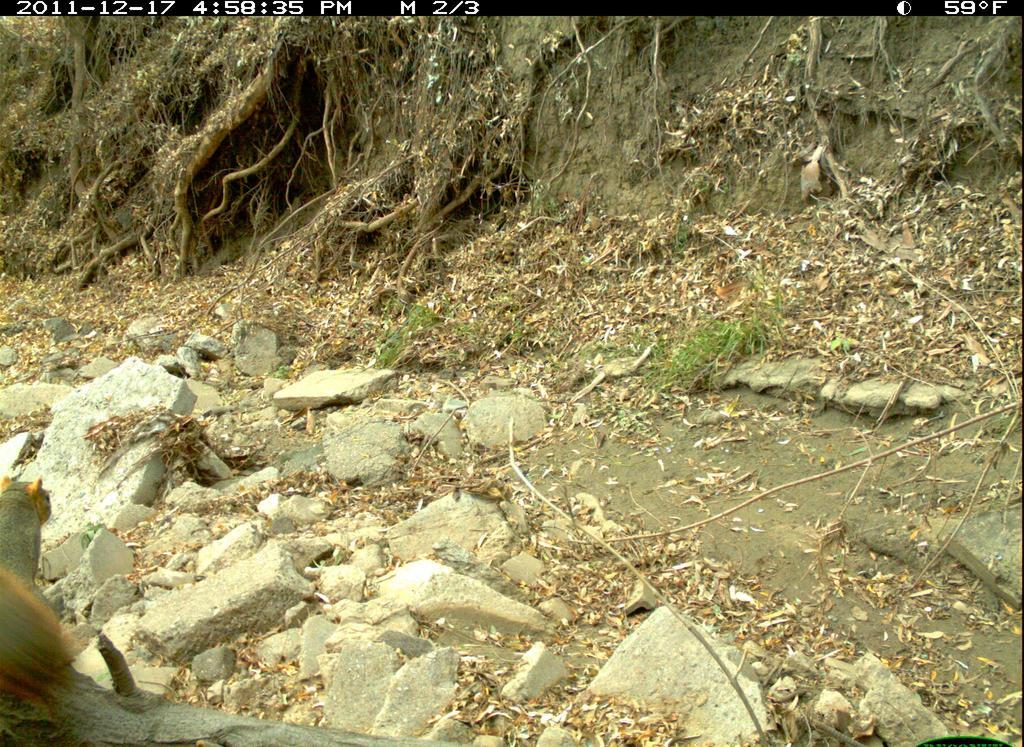squirrel: (4, 459, 108, 712)
